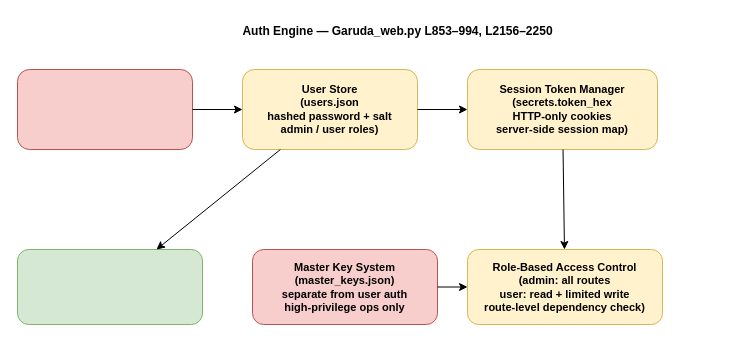
This 745x342 diagram has some shape labels left out. Here are the shapes that lost their labels. From the top down, the centre of each, then its label:
At (x=104, y=109): "Password Hasher (PBKDF2-SHA256 600k iterations hashlib.pbkdf2_hmac)".
At (x=109, y=286): "OTP Engine (send_otp_via_email L853) 6-digit code, 10-min expiry SMTP delivery".
